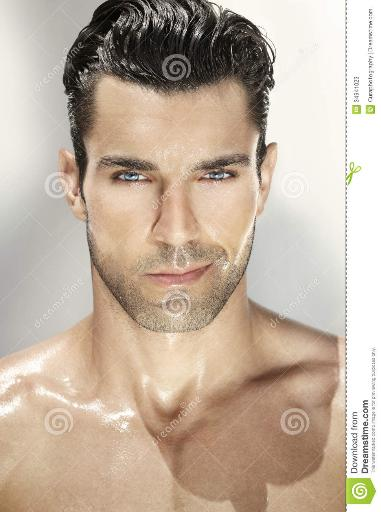left_eye: (199, 173, 241, 191)
left_lip_corner: (202, 259, 217, 281)
right_eye: (109, 171, 156, 193)
right_lip_corner: (144, 268, 158, 288)
